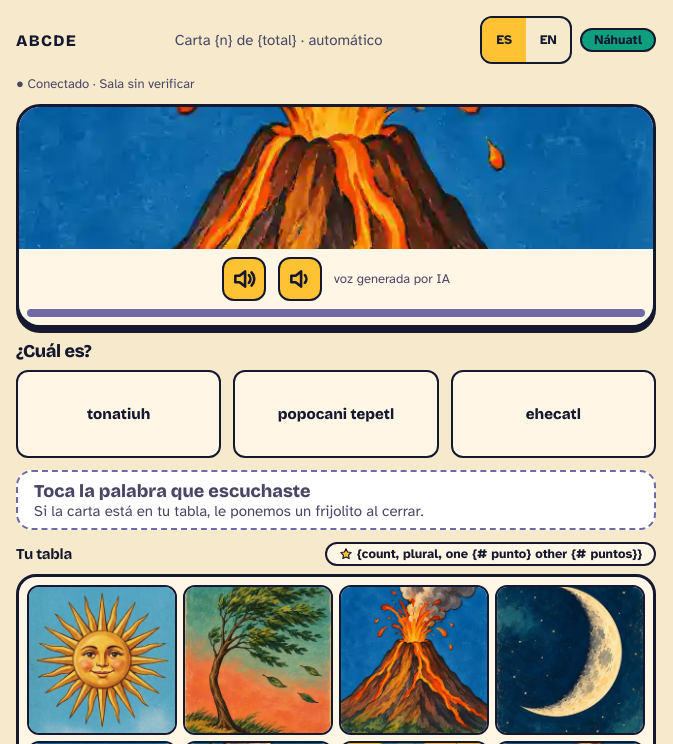
Test case: PlayerBoard crossing and settings › switching the UI language leaves the spoken language alone
Click the button with aria-label "English" at (548,40), box [526, 18, 570, 62]
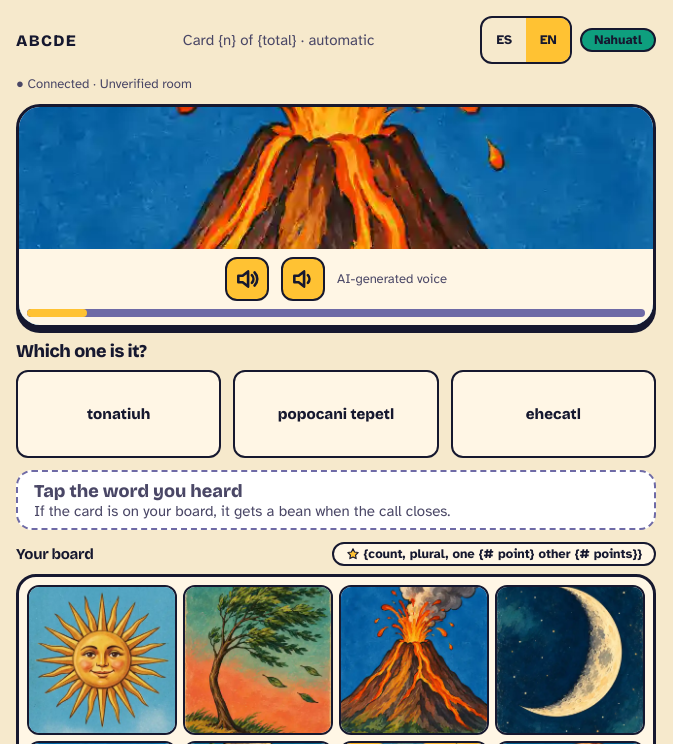
Expected: the button "popocani tepetl" is shown, [233, 370, 439, 458]
Result: the heading "Your board" is shown at [16, 545, 94, 563]
